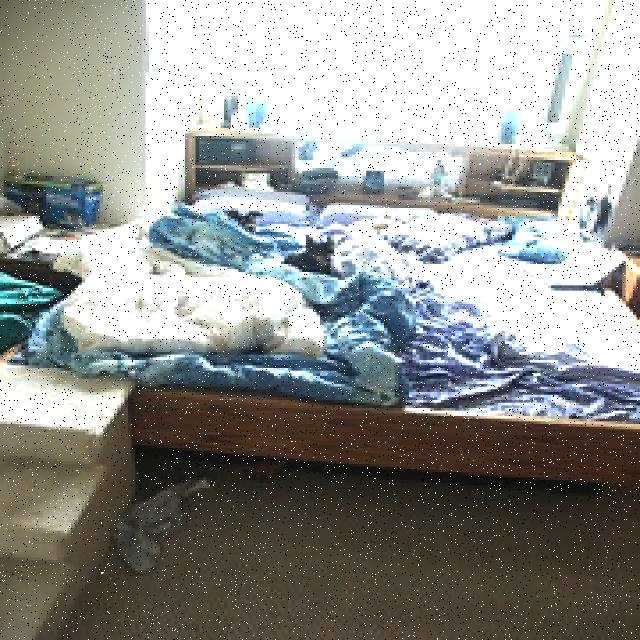bed: (66, 107, 640, 448)
